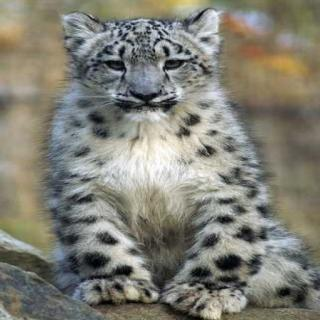Leopard: (48, 8, 288, 314)
